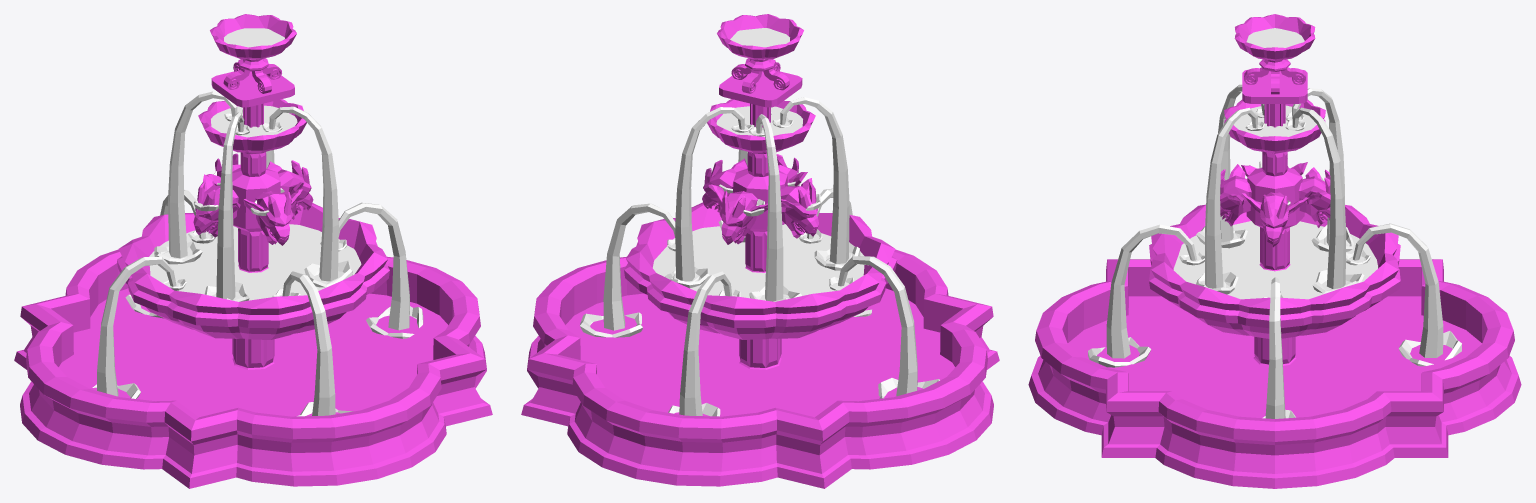
File: SM_Fountain_B_Water_Fantasy.fbx
3 views of the same model, side by side, from view 1: azimuth 30°, elevation 25°; view 2: azimuth 150°, elevation 25°; view 3: azimuth 270°, elevation 25° (orthographic).
Parts seen in each view (by area): view 1: SM_Fountain_B_Water_Fantasy; view 2: SM_Fountain_B_Water_Fantasy; view 3: SM_Fountain_B_Water_Fantasy.
Part boxes in pixels (x1=…): SM_Fountain_B_Water_Fantasy: x1=14, y1=14, x2=492, y2=488; SM_Fountain_B_Water_Fantasy: x1=521, y1=14, x2=999, y2=488; SM_Fountain_B_Water_Fantasy: x1=1028, y1=14, x2=1521, y2=488.
Size of the model in its own units: 6 by 4.75 by 6.
